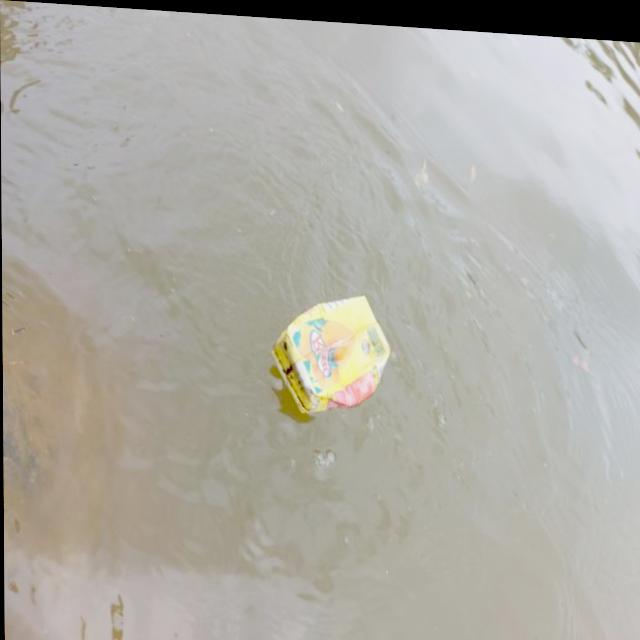paper: (265, 281, 402, 426)
